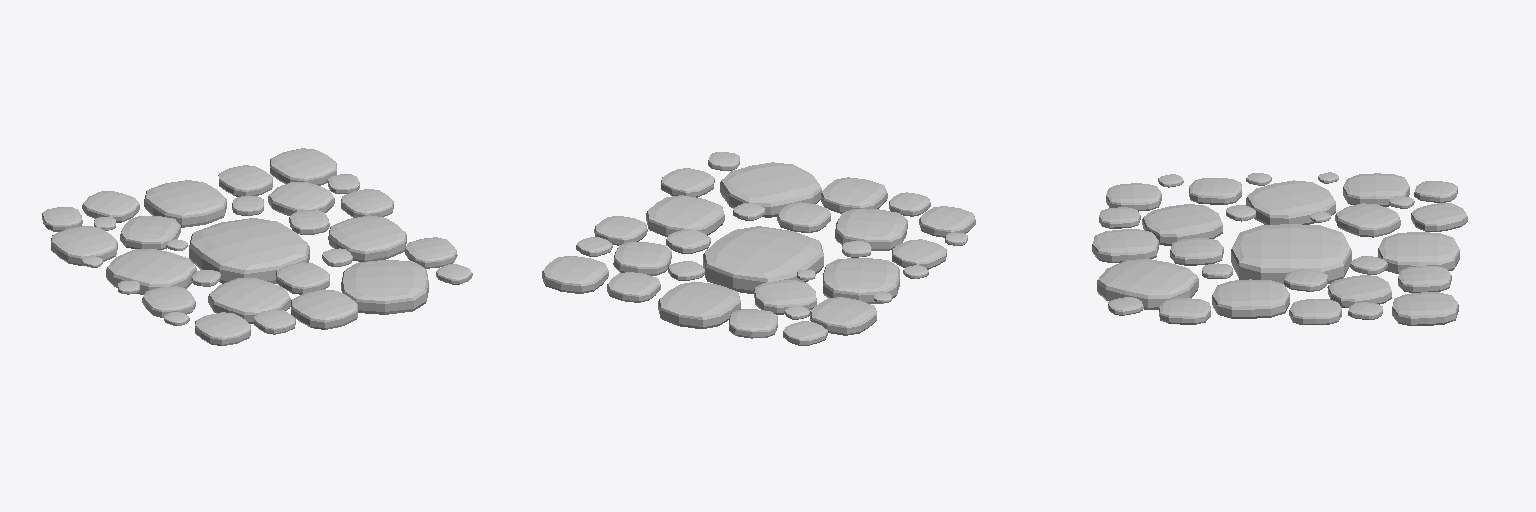
File: rocks.obj
3 views of the same model, side by side, from view 1: azimuth 30°, elevation 25°; view 2: azimuth 150°, elevation 25°; view 3: azimuth 270°, elevation 25° (orthographic).
Parts seen in each view (by area): view 1: Cube.001; view 2: Cube.001; view 3: Cube.001.
Boxes of the visible parts, <box> form: Cube.001: <box>42,148,472,345</box>; Cube.001: <box>542,152,975,345</box>; Cube.001: <box>1092,172,1467,325</box>.
Size of the model in its own units: 2.2 by 0.1807 by 2.38.